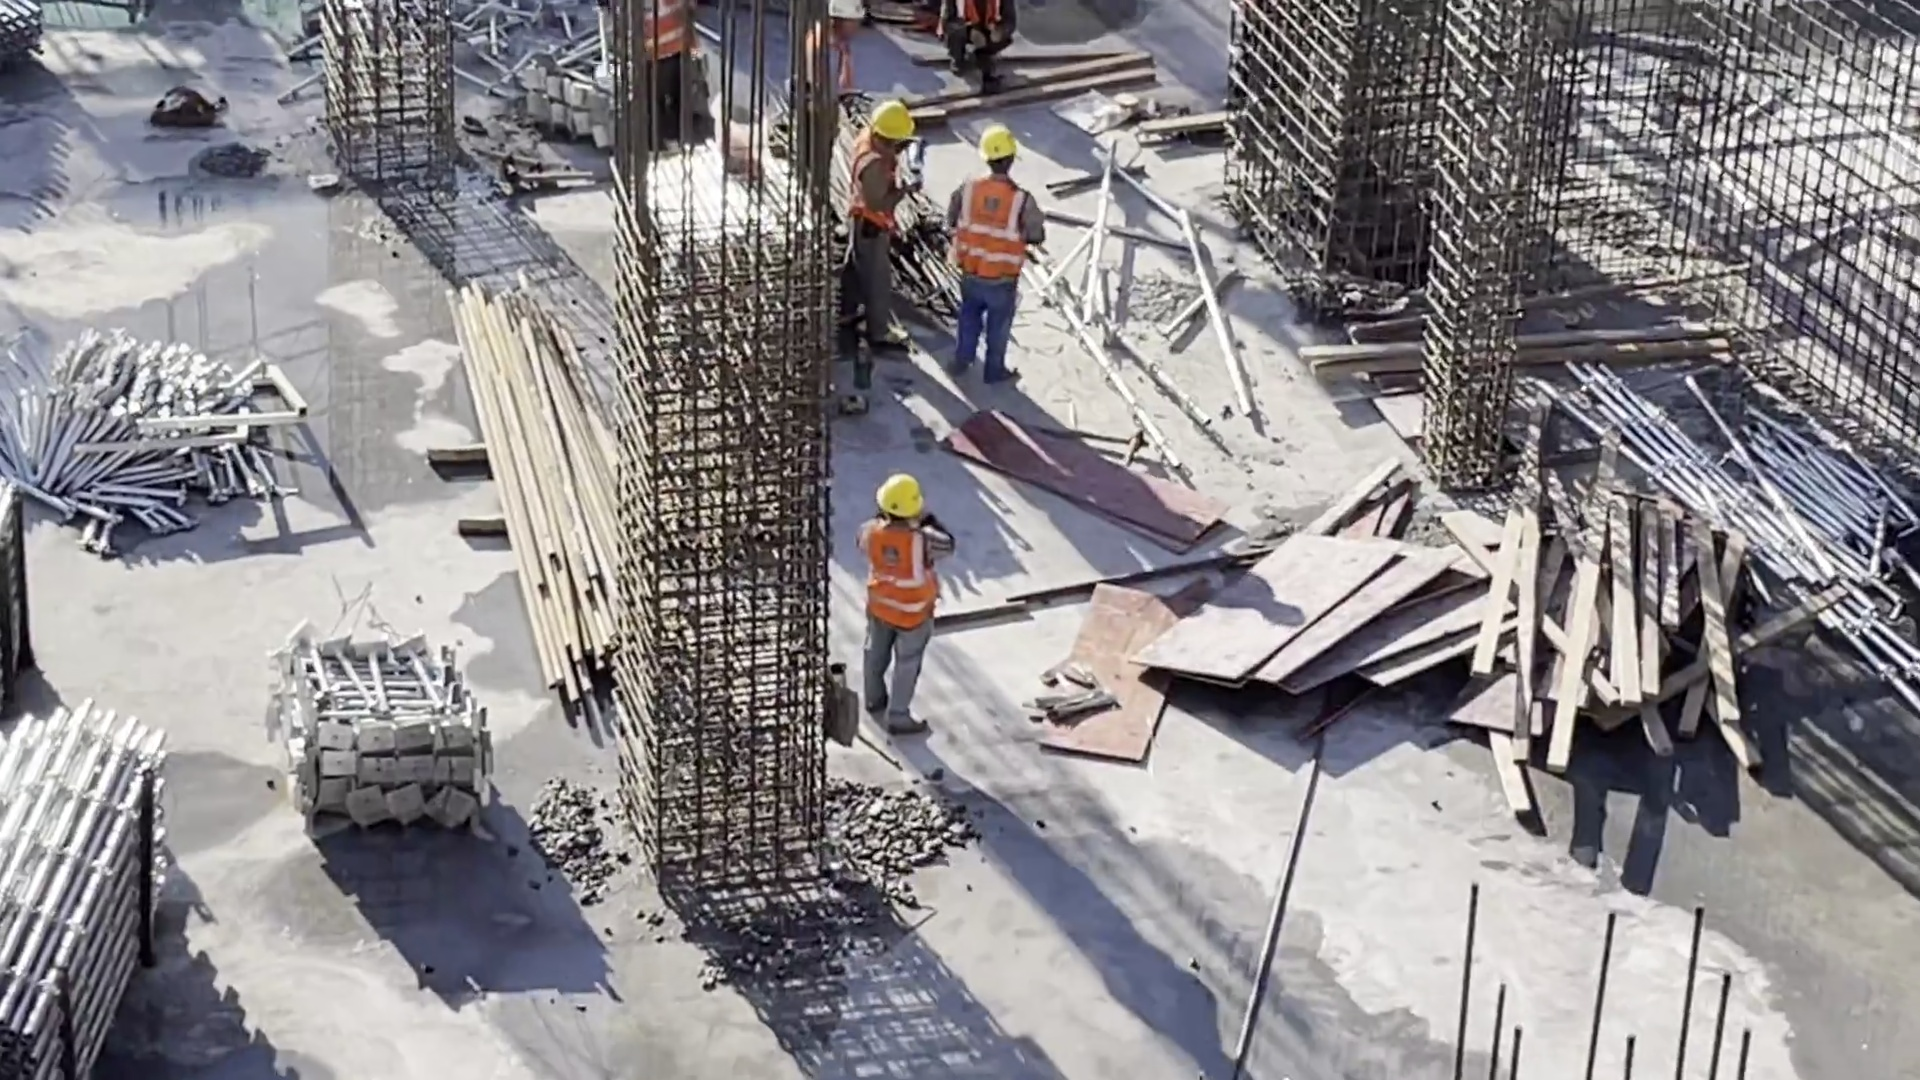board: (1162, 531, 1473, 702)
helmet: (869, 97, 932, 149), (864, 468, 938, 509), (980, 126, 1033, 160)
person: (856, 475, 944, 745), (948, 124, 1036, 382), (850, 94, 917, 368), (797, 1, 874, 187), (618, 1, 703, 122), (940, 1, 1020, 94)
scaffold: (1639, 364, 1920, 628), (1, 688, 190, 1061), (1, 299, 311, 523), (259, 614, 480, 814)
vest: (870, 511, 940, 638), (944, 186, 1028, 276), (851, 134, 912, 239), (644, 1, 704, 68), (786, 24, 833, 100)
wood: (1487, 459, 1754, 821)
